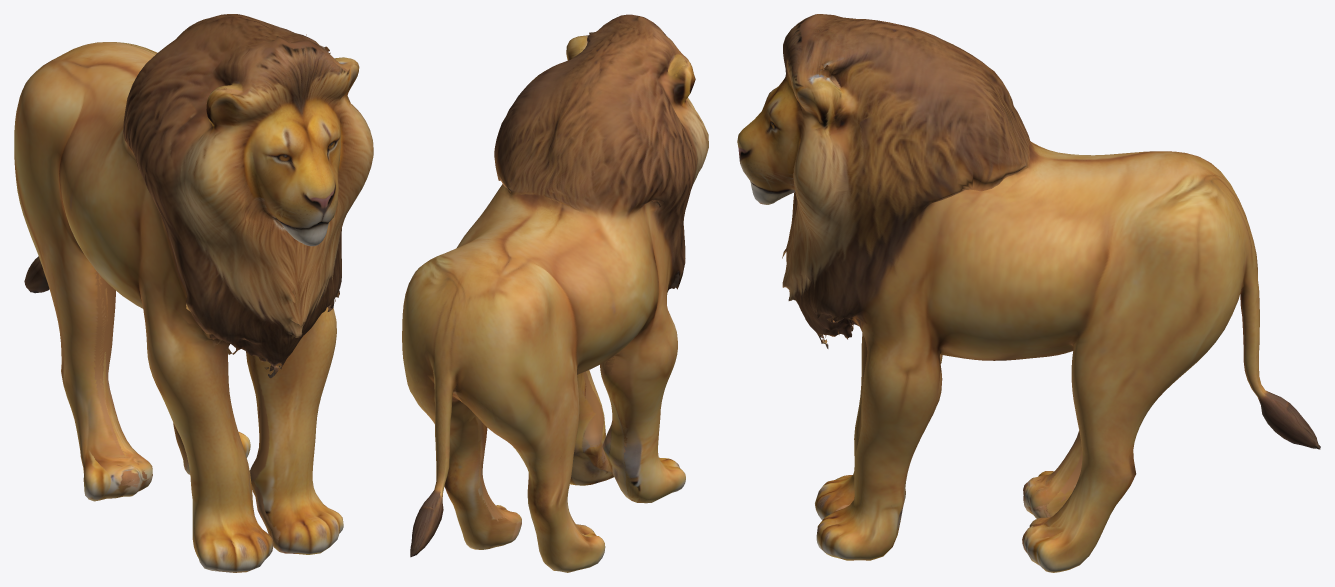
Rendered from lion.glb.
3 views of the same model, side by side, from view 1: azimuth 30°, elevation 25°; view 2: azimuth 150°, elevation 25°; view 3: azimuth 270°, elevation 25° (orthographic). The views are drawn at different scales.
Parts seen in each view (by area): view 1: input_Material.001_0; view 2: input_Material.001_0; view 3: input_Material.001_0.
Boxes of the visible parts, bbox=[...] form: input_Material.001_0: bbox=[14, 14, 373, 572]; input_Material.001_0: bbox=[402, 14, 708, 572]; input_Material.001_0: bbox=[737, 14, 1320, 572].
Size of the model in its own units: 0.791 by 2 by 2.02.
Materials: 1 (1 with a texture image).
